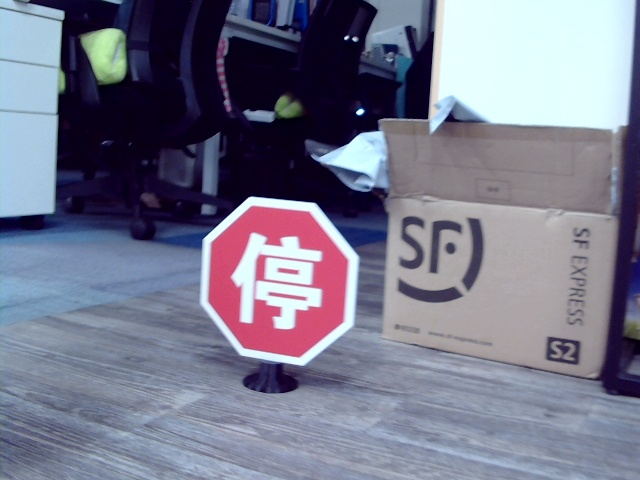stop: (229, 227, 324, 329)
